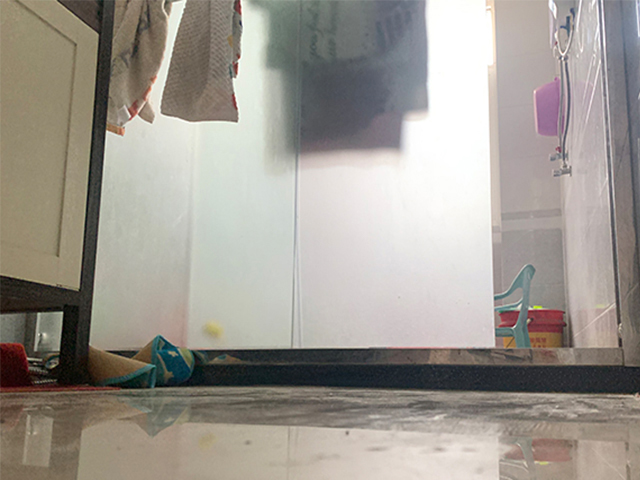cabinet: (1, 1, 115, 386)
carpet: (1, 342, 121, 392)
stool: (494, 261, 536, 349)
